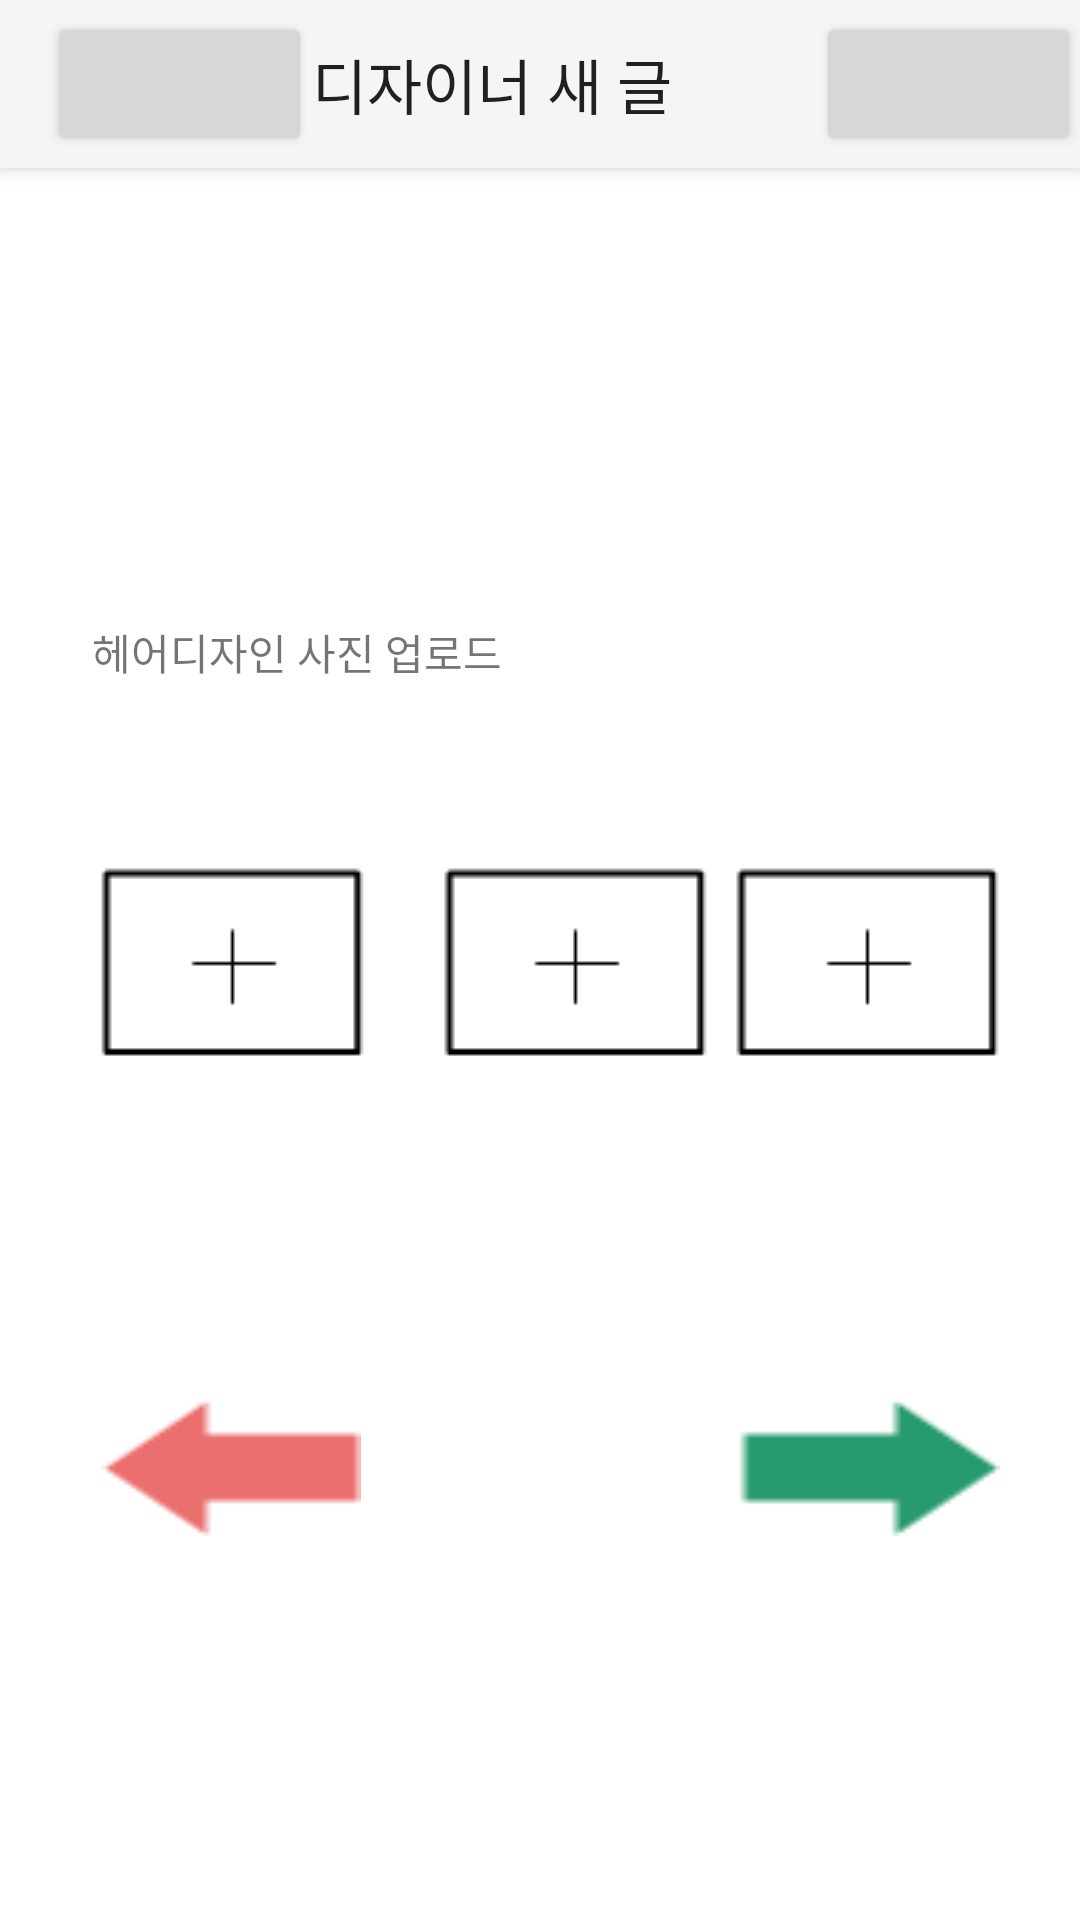

Point at icon controls on the screen. Image size 1080×1920, points as point (x, y).
before: point (232, 1469)
next: point (870, 1469)
pictureupload: point (232, 962), point (575, 962), point (867, 962)
